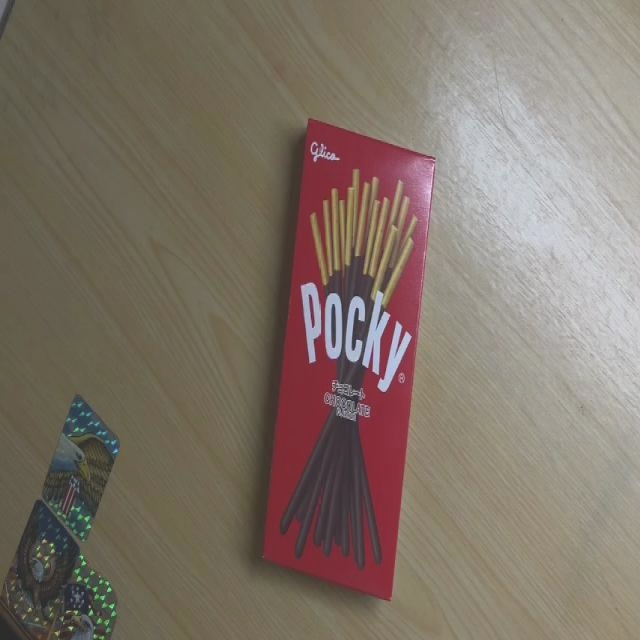Pocky: (261, 116, 435, 605)
